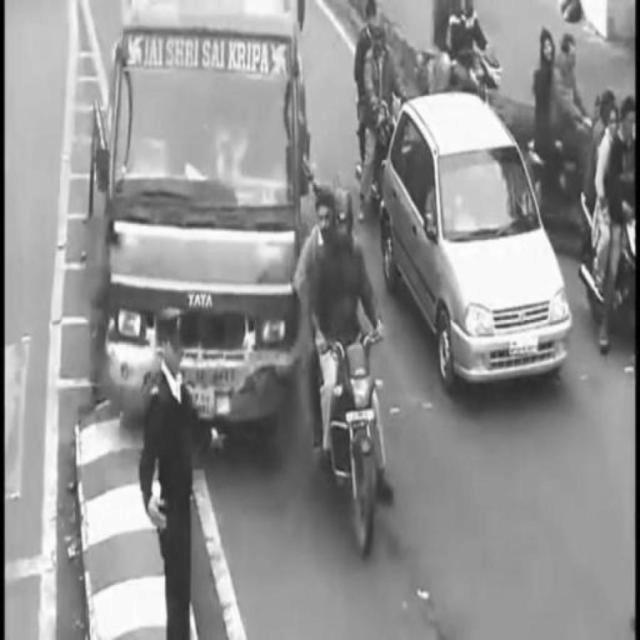person: (139, 309, 207, 639)
vehicle: (102, 9, 296, 439), (384, 92, 571, 389), (297, 189, 387, 553)
